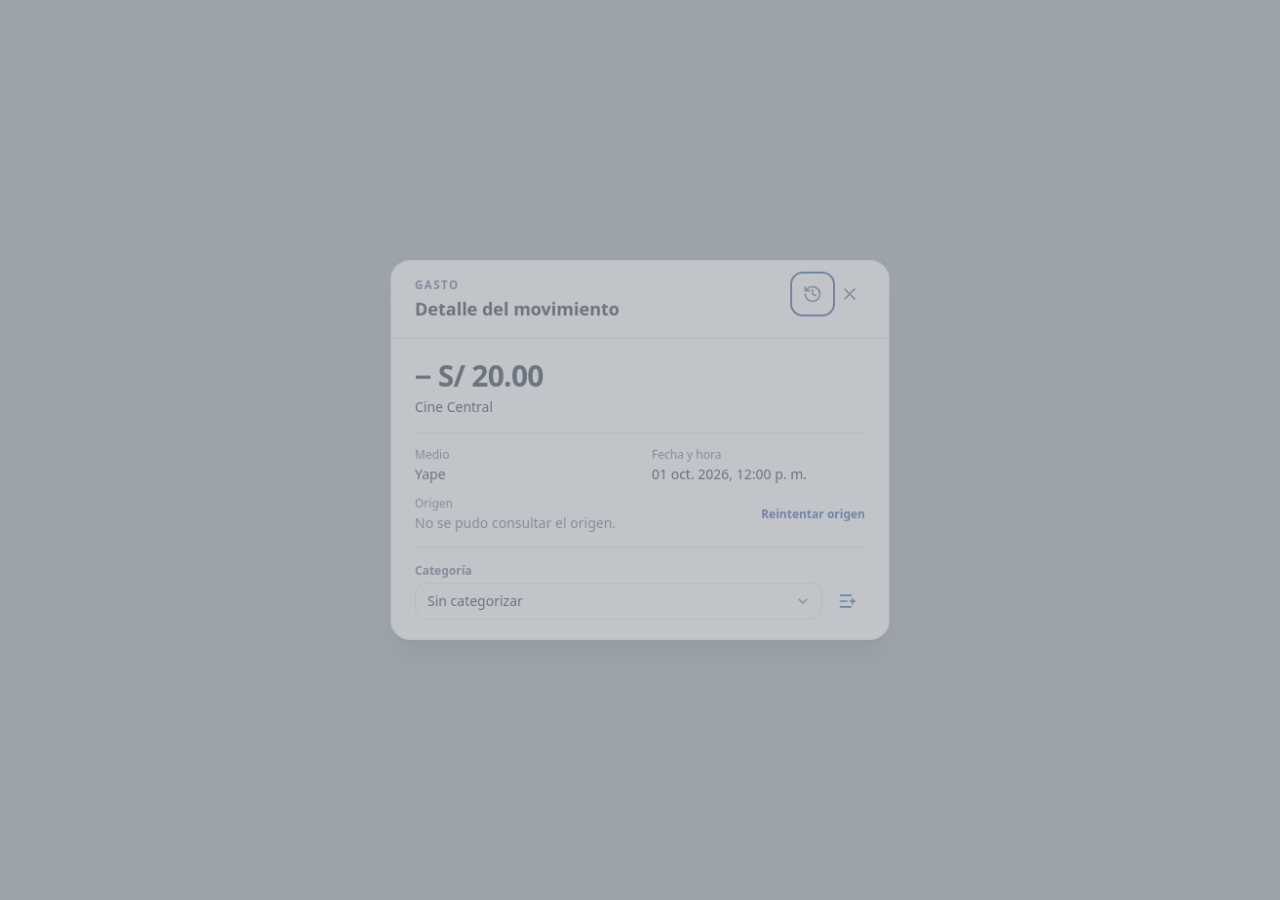
Scenario: opens a sibling modal with the edited category and retains the movement draft on cancellation
Select "Ocio" in the dropdown labelled "Categoría" at point(619, 601), box [415,583,822,620]
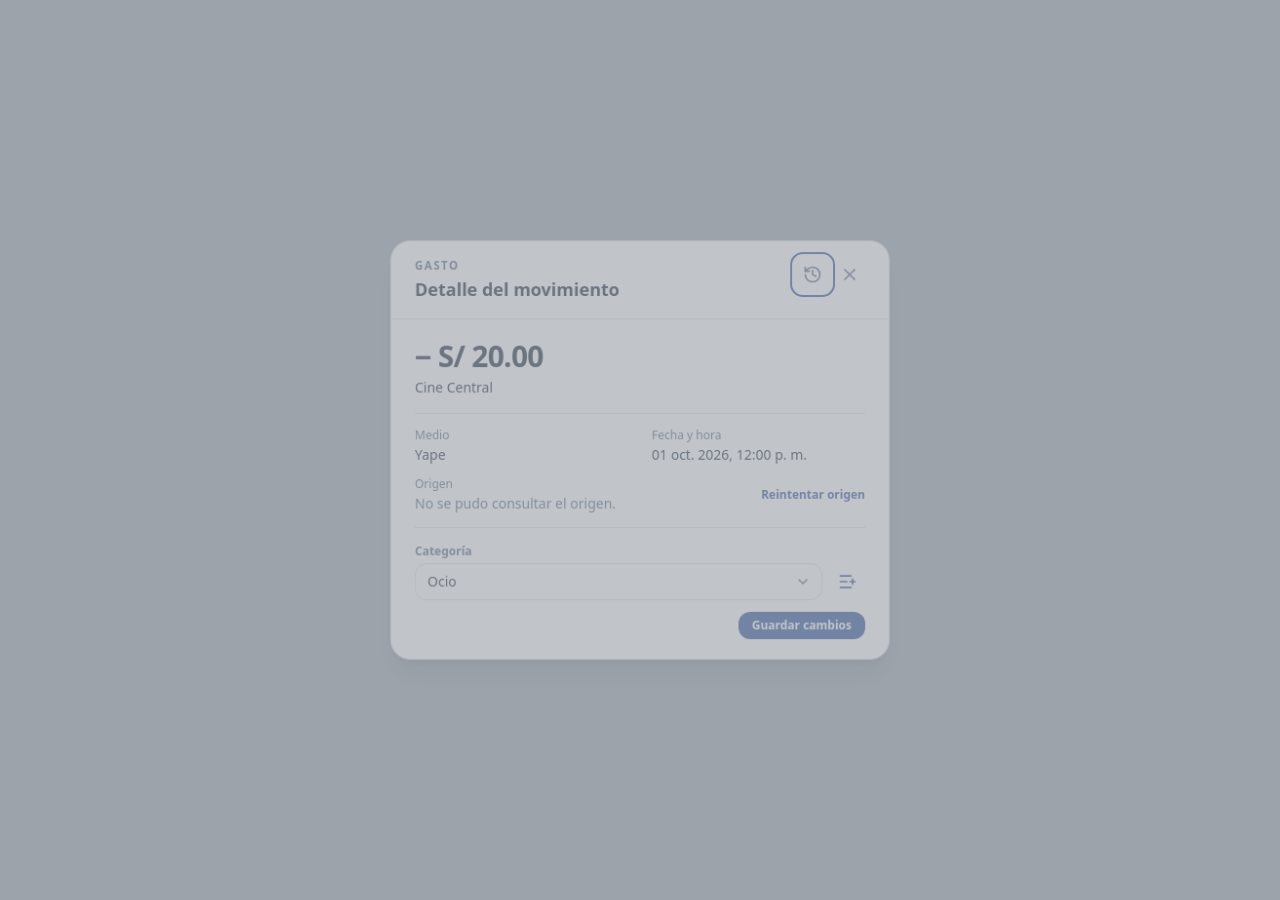
Click the button named "Crear regla para este comercio" at point(848, 582), box [830,564,865,599]
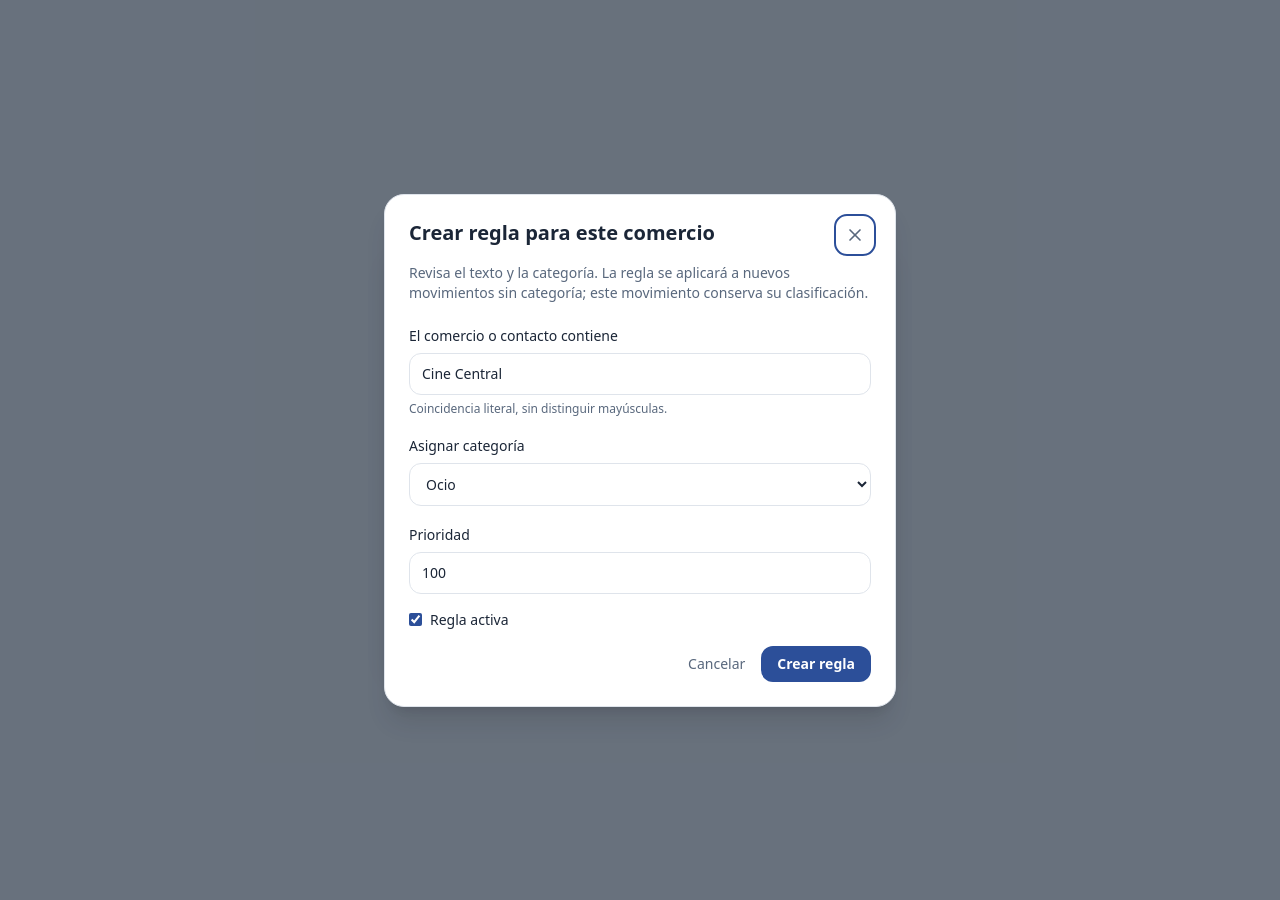
Result: the dropdown labelled "Asignar categoría" shows "Ocio" at [409,462,871,506]
Click the button "Cancelar" at point(717, 664), box [688,646,745,682]
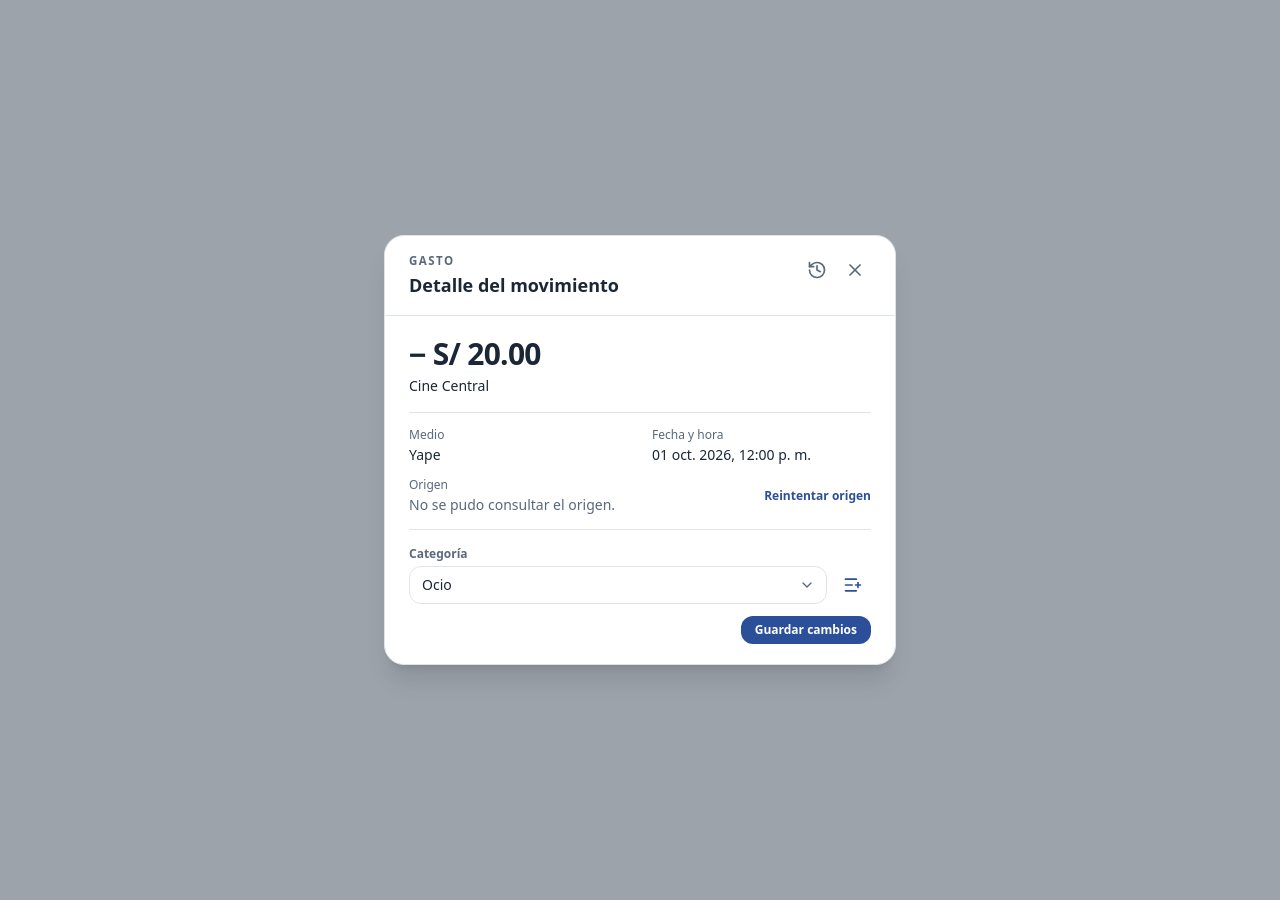
Result: the heading "Crear regla para este comercio" is gone
